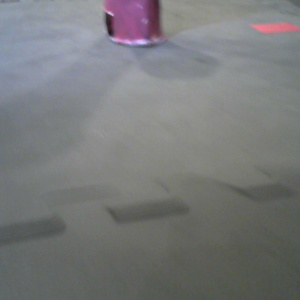right: (97, 1, 174, 50)
